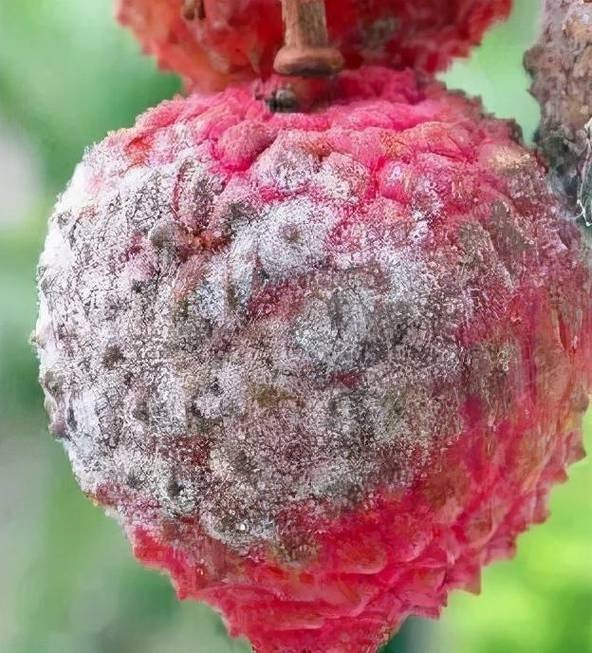Frost_Blight: (70, 137, 415, 538)
